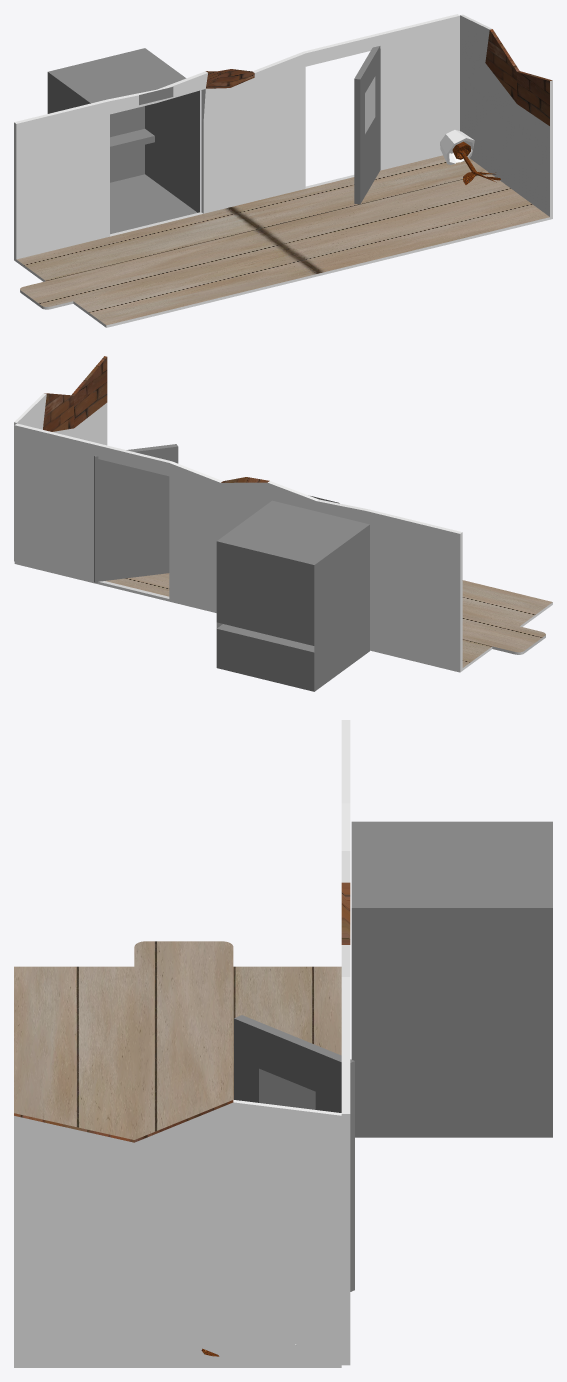
The model's file is pasillo.glb.
3 renders of one model, top to bottom at view 1: azimuth 30°, elevation 25°; view 2: azimuth 150°, elevation 25°; view 3: azimuth 270°, elevation 25°, orthographic. The views are drawn at different scales.
Parts seen in each view (by area): view 1: Cubo, Cubo.001, Cubo.002, Cilindro.003; view 2: Cubo, Cubo.001, Cubo.002; view 3: Cubo, Cubo.001, Cubo.002.
Part boxes in pixels (x1,y1,x2,y2): Cubo: (14,14,552,327); Cubo.001: (47,48,200,234); Cubo.002: (354,46,380,204); Cilindro.003: (440,130,474,164); Cubo: (14,356,552,672); Cubo.001: (216,500,369,691); Cubo.002: (94,444,178,582); Cubo: (14,720,350,1367); Cubo.001: (351,821,552,1137); Cubo.002: (234,1015,354,1291).
Size of the model in its own units: 28.24 by 8.17 by 14.92.
7 materials, 4 textured.
